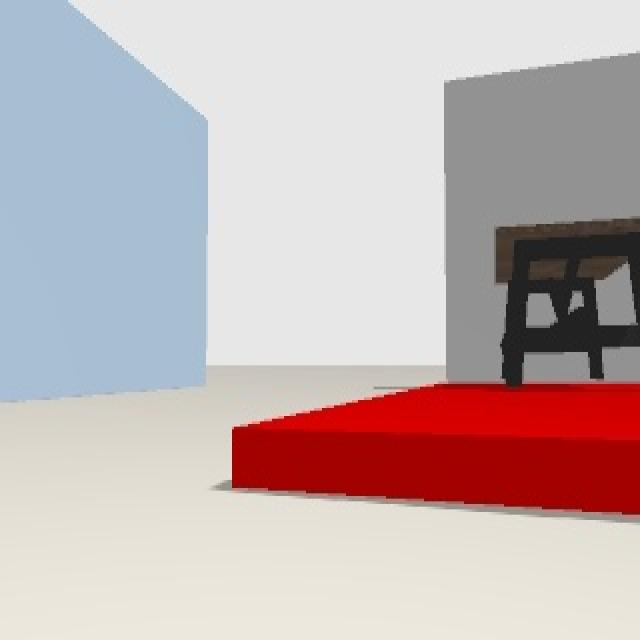dining: (494, 218, 640, 385)
